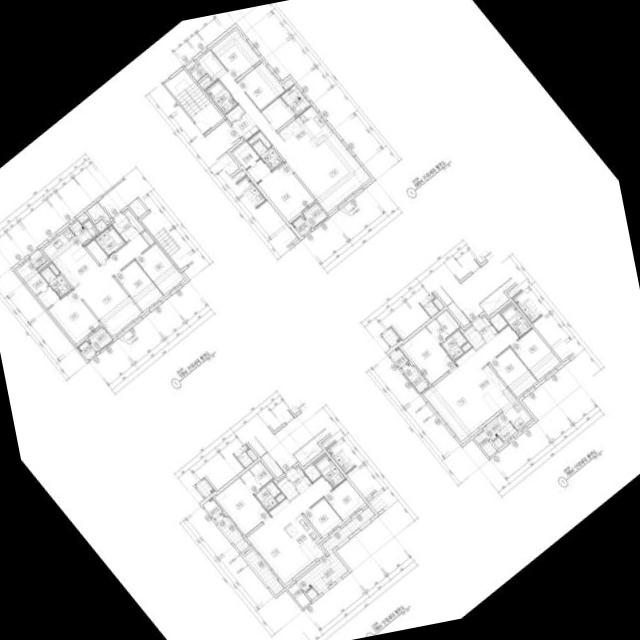background: (0, 0, 640, 640)
space_balconi: (296, 506, 375, 594), (214, 513, 283, 594), (482, 412, 517, 441), (280, 85, 310, 115), (401, 362, 428, 392), (69, 219, 99, 245), (303, 203, 327, 228), (88, 327, 112, 352)
space_bedroom: (257, 162, 314, 221), (401, 326, 456, 384), (214, 477, 269, 534), (48, 289, 100, 343), (510, 328, 560, 380), (135, 243, 184, 294), (211, 29, 260, 79), (115, 260, 163, 311), (490, 347, 537, 397), (238, 62, 285, 110), (324, 479, 365, 520), (304, 498, 342, 537)
space_dressroom: (16, 260, 59, 308), (232, 141, 271, 182), (240, 460, 273, 493), (426, 310, 459, 342)
space_front: (111, 212, 139, 242), (231, 112, 259, 140), (471, 315, 498, 342), (285, 466, 312, 493)
space_kitchen: (473, 363, 532, 430), (42, 228, 99, 287), (278, 105, 333, 160), (283, 514, 323, 562)
space_living_room: (198, 49, 370, 212), (423, 325, 519, 441), (247, 475, 332, 584), (74, 233, 149, 336)
space_other: (261, 96, 295, 130), (474, 430, 497, 456), (447, 301, 470, 327), (287, 582, 310, 607), (85, 239, 108, 263), (276, 476, 299, 500), (462, 326, 485, 349), (86, 202, 110, 221), (185, 60, 206, 81), (124, 210, 144, 232), (248, 131, 271, 148), (128, 198, 147, 217), (225, 104, 244, 122), (29, 249, 47, 268), (304, 463, 321, 481), (490, 313, 507, 331), (141, 230, 154, 245), (198, 76, 211, 88), (95, 220, 107, 232), (48, 263, 60, 275), (306, 588, 318, 600), (78, 213, 89, 223), (283, 79, 293, 89), (493, 437, 503, 447), (275, 493, 285, 502), (461, 342, 471, 351)
space_outdoor_room: (202, 497, 222, 518), (389, 346, 409, 367), (291, 216, 311, 236), (77, 340, 96, 359)
space_staircase: (164, 68, 224, 133)
space_toilet: (500, 303, 532, 337), (206, 79, 237, 113), (314, 454, 345, 487), (252, 139, 283, 170), (40, 266, 71, 297), (94, 225, 125, 256), (254, 480, 281, 511), (441, 329, 467, 360)
